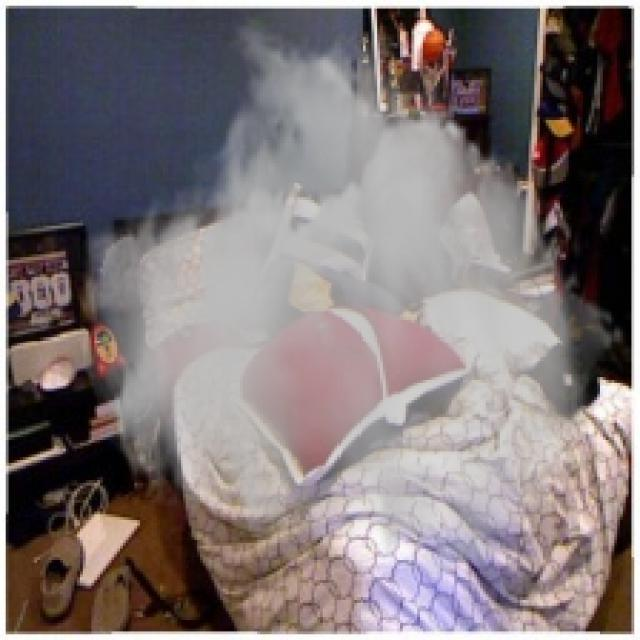Smoke: (74, 14, 626, 580)
